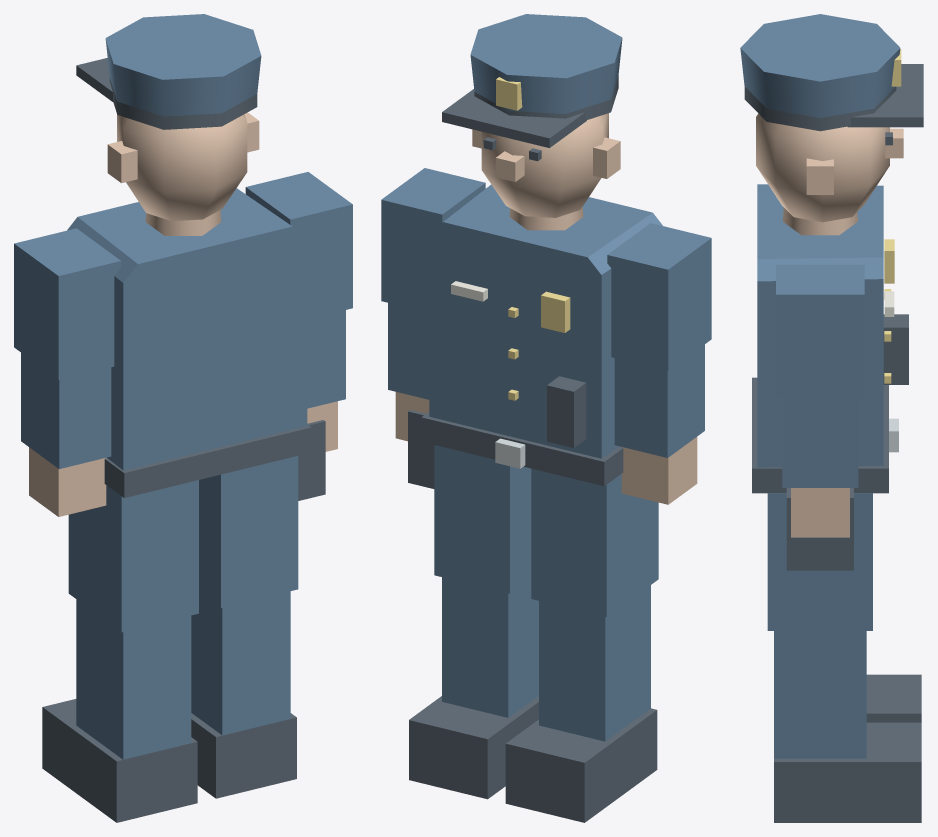
The model's file is cop.glb.
3 views of the same model, side by side, from view 1: azimuth 30°, elevation 25°; view 2: azimuth 150°, elevation 25°; view 3: azimuth 270°, elevation 25° (orthographic). The views are drawn at different scales.
Visible parts, largest first — view 1: Torso_Mesh, Thigh (×2), Lower_Leg (×2), Upper_Arm (×2), Shoe (×2), Peaked_Cap_Crown, Sleeve (×2), Face, Belt, Hand (×2), Cap_Band, Holster (+3 smaller); view 2: Torso_Mesh, Thigh (×2), Lower_Leg (×2), Upper_Arm (×2), Shoe (×2), Peaked_Cap_Crown, Sleeve (×2), Face, Belt, Hand (×2), Cap_Visor, Radio (+8 smaller); view 3: Torso_Mesh, Shoe (×2), Peaked_Cap_Crown, Upper_Arm, Lower_Leg, Face, Thigh, Sleeve, Hand, Belt, Holster, Cap_Visor (+6 smaller).
Part boxes in pixels (bbox=[...]): Torso_Mesh: bbox=[67, 188, 307, 470]; Thigh (×2): bbox=[68, 456, 298, 632]; Lower_Leg (×2): bbox=[76, 591, 290, 759]; Upper_Arm (×2): bbox=[14, 172, 352, 379]; Shoe (×2): bbox=[42, 699, 296, 822]; Peaked_Cap_Crown: bbox=[105, 14, 261, 116]; Sleeve (×2): bbox=[21, 310, 345, 468]; Face: bbox=[117, 114, 247, 221]; Belt: bbox=[104, 424, 311, 497]; Hand (×2): bbox=[29, 401, 337, 516]; Cap_Band: bbox=[109, 78, 257, 129]; Holster: bbox=[298, 420, 325, 500]; Torso_Mesh: bbox=[429, 184, 662, 458]; Thigh (×2): bbox=[434, 445, 658, 617]; Lower_Leg (×2): bbox=[442, 577, 650, 741]; Upper_Arm (×2): bbox=[381, 168, 711, 370]; Shoe (×2): bbox=[409, 696, 657, 822]; Peaked_Cap_Crown: bbox=[470, 14, 622, 113]; Sleeve (×2): bbox=[388, 303, 704, 457]; Face: bbox=[481, 113, 608, 217]; Belt: bbox=[421, 412, 623, 486]; Hand (×2): bbox=[395, 392, 697, 504]; Cap_Visor: bbox=[442, 89, 586, 147]; Radio: bbox=[547, 376, 586, 447]; Torso_Mesh: bbox=[757, 184, 883, 467]; Shoe (×2): bbox=[774, 674, 921, 822]; Peaked_Cap_Crown: bbox=[740, 14, 900, 117]; Upper_Arm: bbox=[776, 264, 864, 397]; Lower_Leg: bbox=[774, 631, 866, 758]; Face: bbox=[756, 113, 889, 222]; Thigh: bbox=[767, 493, 872, 630]; Sleeve: bbox=[782, 398, 858, 487]; Hand: bbox=[791, 488, 849, 537]; Belt: bbox=[752, 377, 888, 493]; Holster: bbox=[786, 488, 853, 570]; Cap_Visor: bbox=[847, 64, 923, 127].
Bounding box in the file's own units: 0.8 × 1.91 × 0.435.
